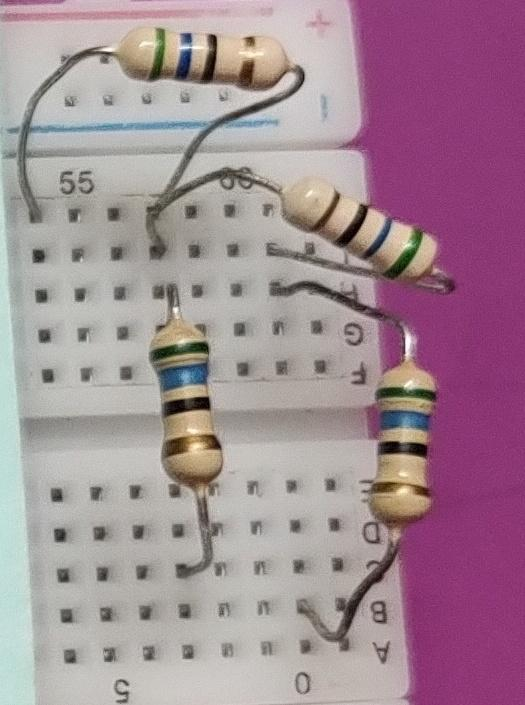resistor: (272, 168, 450, 291), (130, 310, 238, 504), (355, 358, 455, 551), (102, 16, 303, 103)
